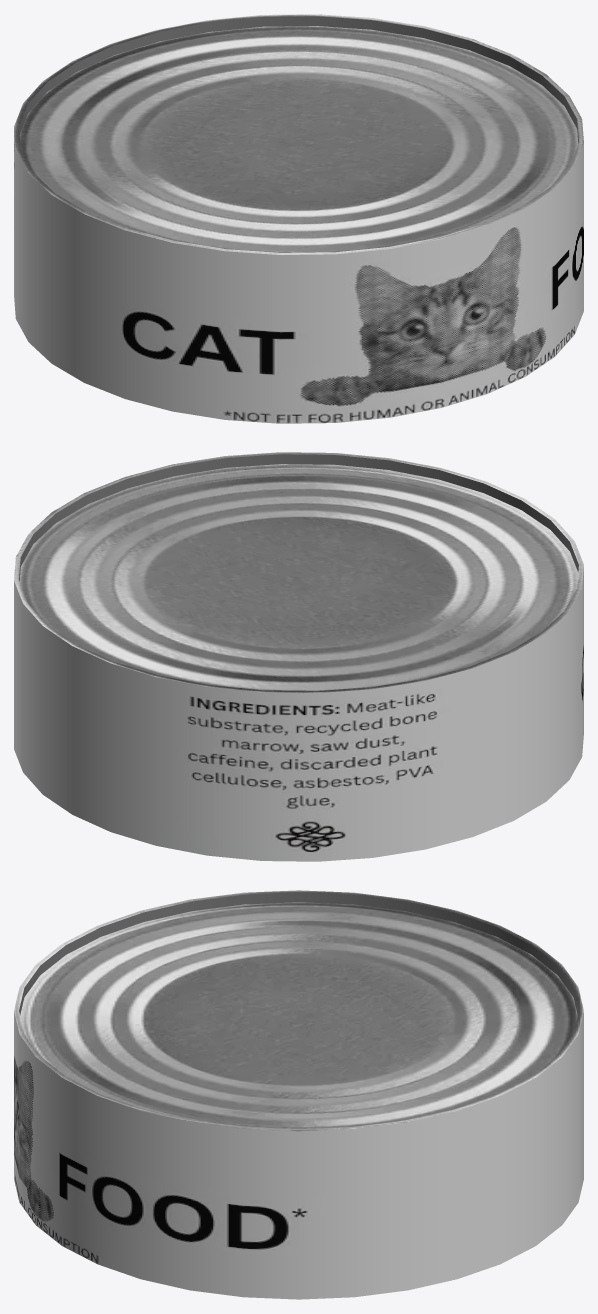
Rendered from catfood.glb.
3 renders of one model, top to bottom at view 1: azimuth 30°, elevation 25°; view 2: azimuth 150°, elevation 25°; view 3: azimuth 270°, elevation 25°, orthographic.
Visible parts, largest first — view 1: Catfood; view 2: Catfood; view 3: Catfood.
Boxes of the visible parts, bbox=[...] form: Catfood: bbox=[14, 14, 583, 423]; Catfood: bbox=[14, 452, 583, 861]; Catfood: bbox=[14, 890, 583, 1299].
Bounding box in the file's own units: 3.47 × 1.13 × 3.47.
Materials: 1 (1 with a texture image).
